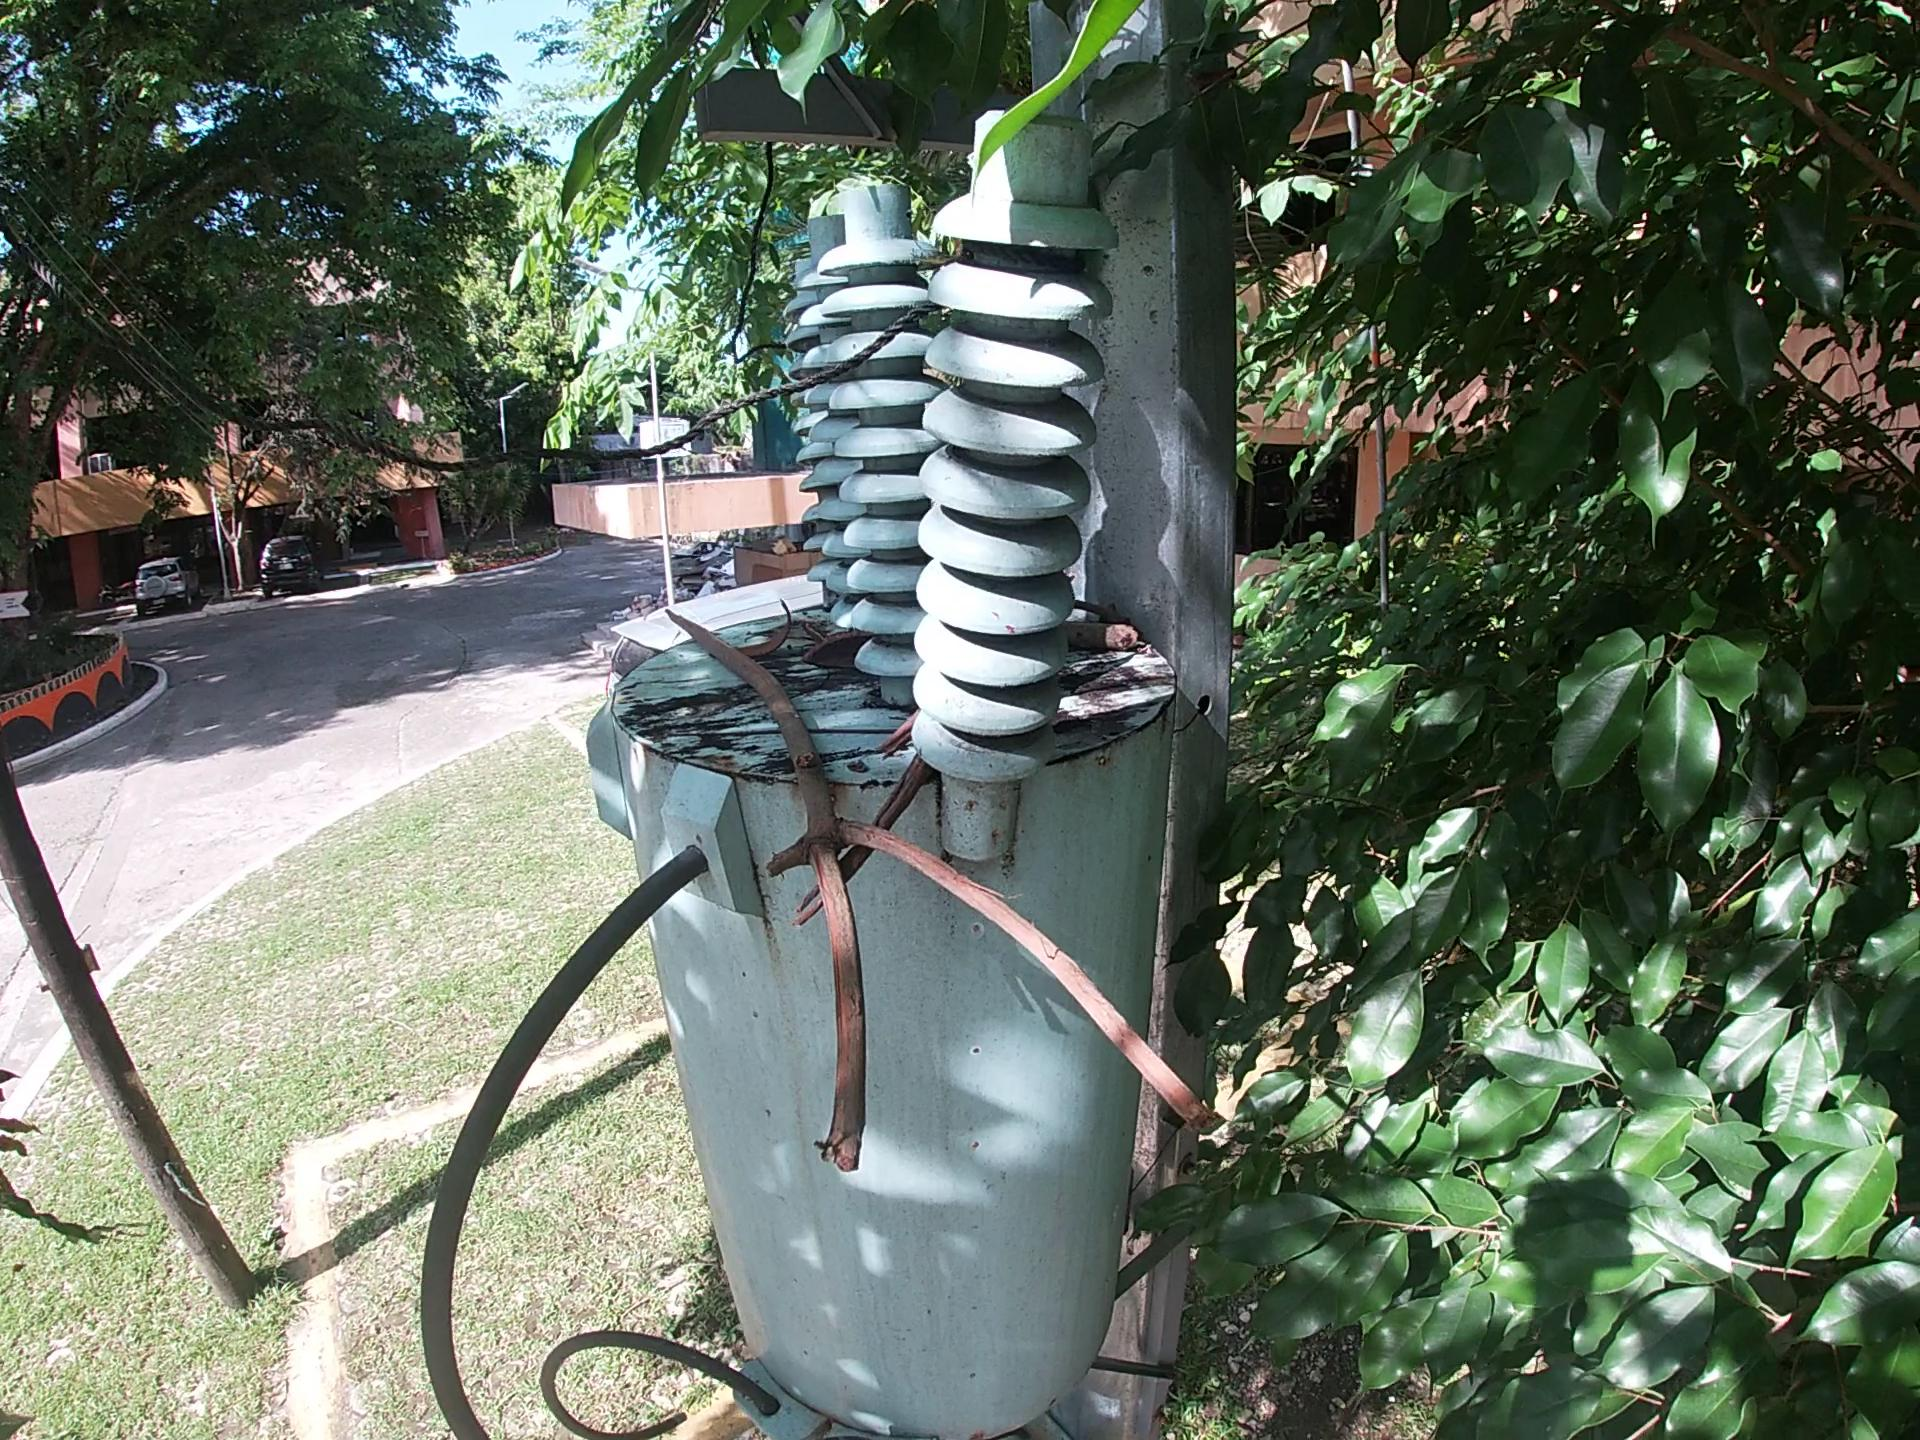mahogany fruit: (798, 635, 869, 681), (747, 596, 803, 653)
tree branch: (643, 611, 1250, 1169), (801, 767, 927, 923), (1045, 628, 1158, 650), (1066, 601, 1143, 622), (880, 706, 909, 762)
